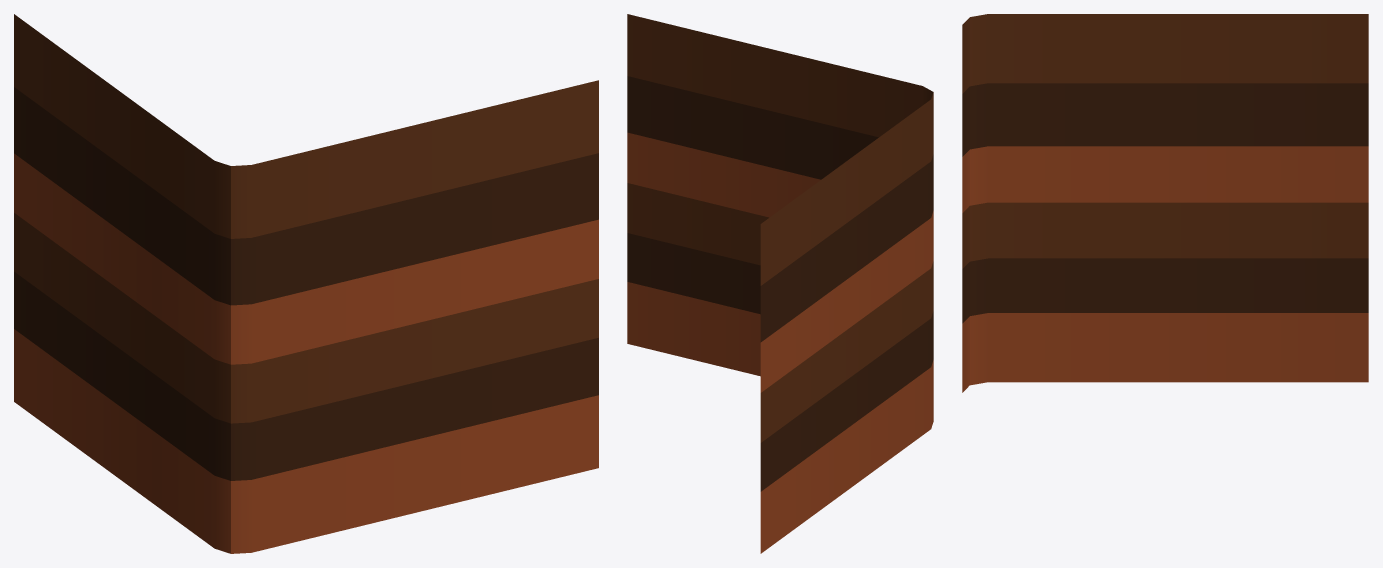
Rendered from Cube_Grass_CornerCenter_Tall.obj.
3 views of the same model, side by side, from view 1: azimuth 30°, elevation 25°; view 2: azimuth 150°, elevation 25°; view 3: azimuth 270°, elevation 25° (orthographic). The views are drawn at different scales.
Parts seen in each view (by area): view 1: Cube_Grass_CornerCenter_Tall_Cube.386; view 2: Cube_Grass_CornerCenter_Tall_Cube.386; view 3: Cube_Grass_CornerCenter_Tall_Cube.386.
Boxes of the visible parts, left/top/right/bottom form: Cube_Grass_CornerCenter_Tall_Cube.386: left=14, top=14, right=598, bottom=553; Cube_Grass_CornerCenter_Tall_Cube.386: left=627, top=14, right=933, bottom=553; Cube_Grass_CornerCenter_Tall_Cube.386: left=962, top=14, right=1368, bottom=392.
Bounding box in the file's own units: 2 × 2 × 2.
